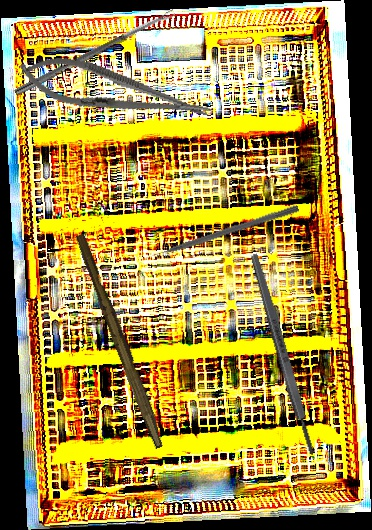Needle Holder: (13, 46, 215, 137)
Pusher: (142, 203, 300, 262)
Scalpel Handle: (70, 232, 171, 450), (248, 251, 318, 458)
Surgical Spoon: (13, 9, 177, 97)
